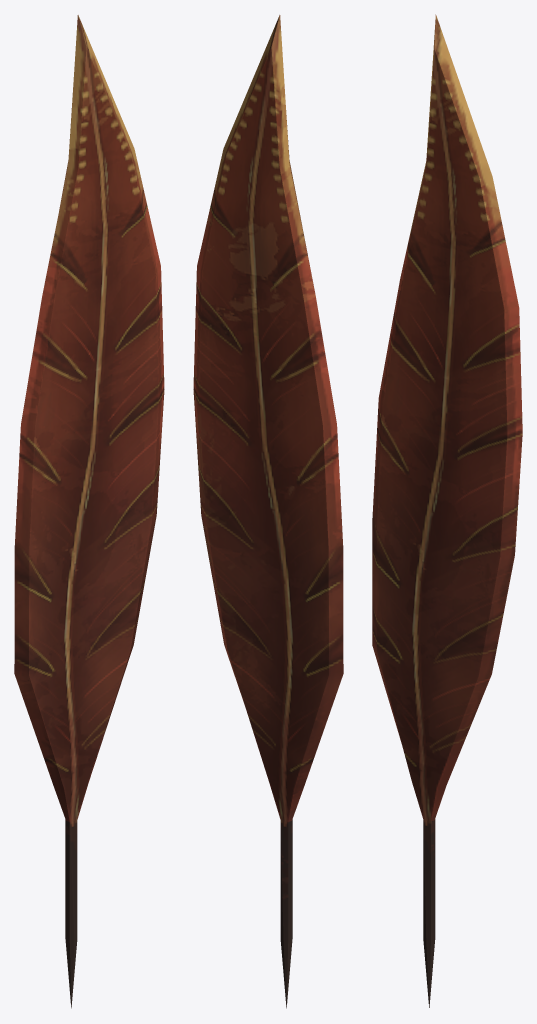
The model's file is RajahBagwisFeathers.fbx.
3 renders of one model, left to right at view 1: azimuth 30°, elevation 25°; view 2: azimuth 150°, elevation 25°; view 3: azimuth 330°, elevation 25°, orthographic.
Parts seen in each view (by area): view 1: Plane; view 2: Plane; view 3: Plane.
Part boxes in pixels (x1,y1,x2,y2): Plane: (14, 15, 164, 1008); Plane: (193, 15, 343, 1008); Plane: (372, 14, 522, 1007).
Bounding box in the file's own units: 0.0679 × 0.43 × 0.00778.
